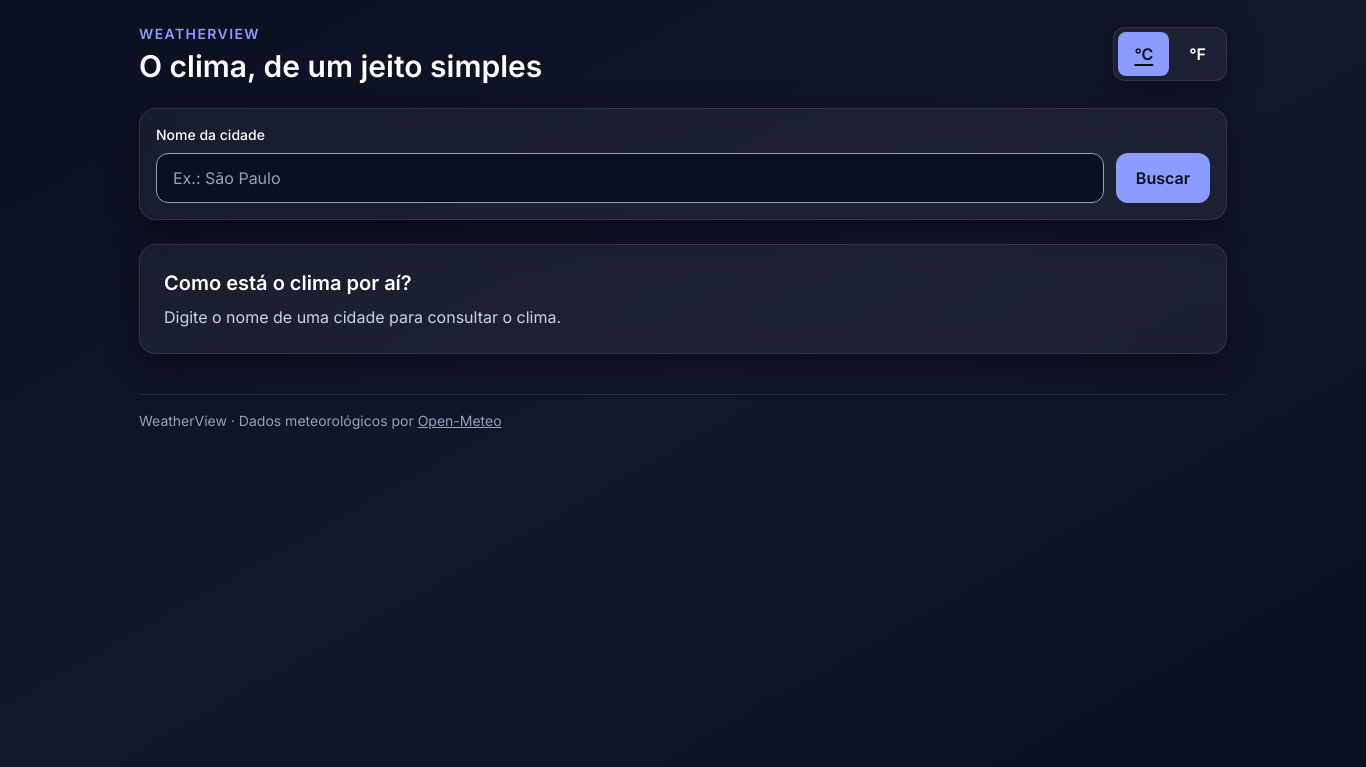
Test: App integrado › permite selecionar outra cidade encontrada por teclado
This screenshot has width=1366, height=767.
Type "São Paulo" into the search field at (630, 178), box [156,153,1104,203]
Then press Enter
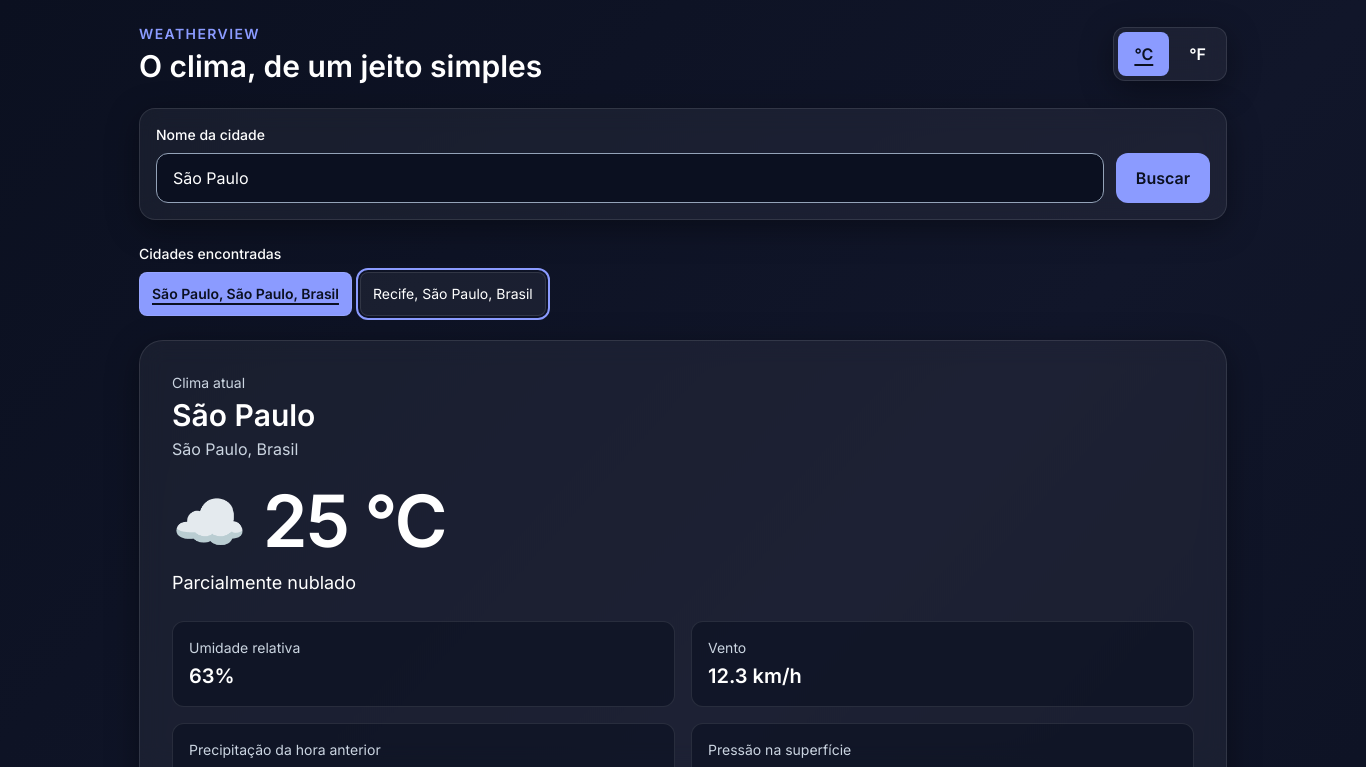
Press Enter
(page scrolled)
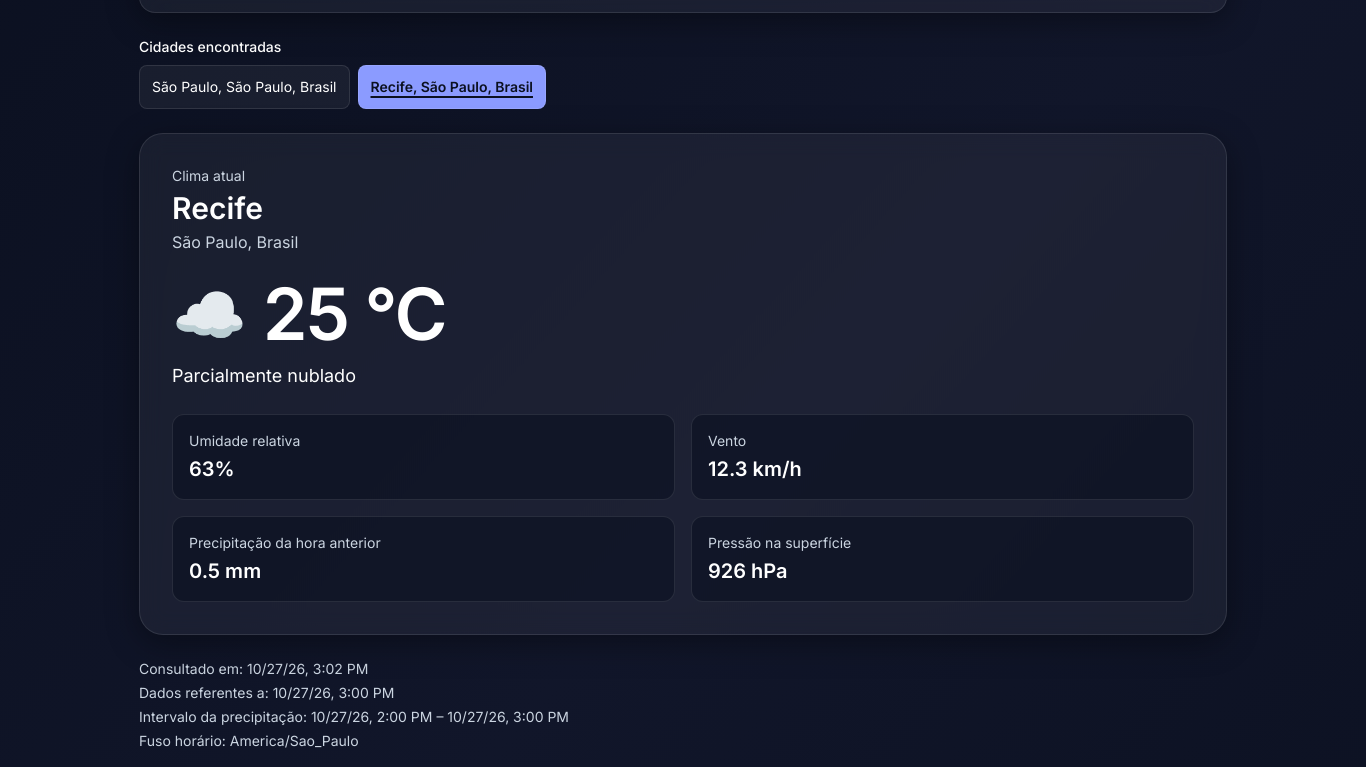
expect the element "Recife" is shown: met, box [139,133,1227,635]
